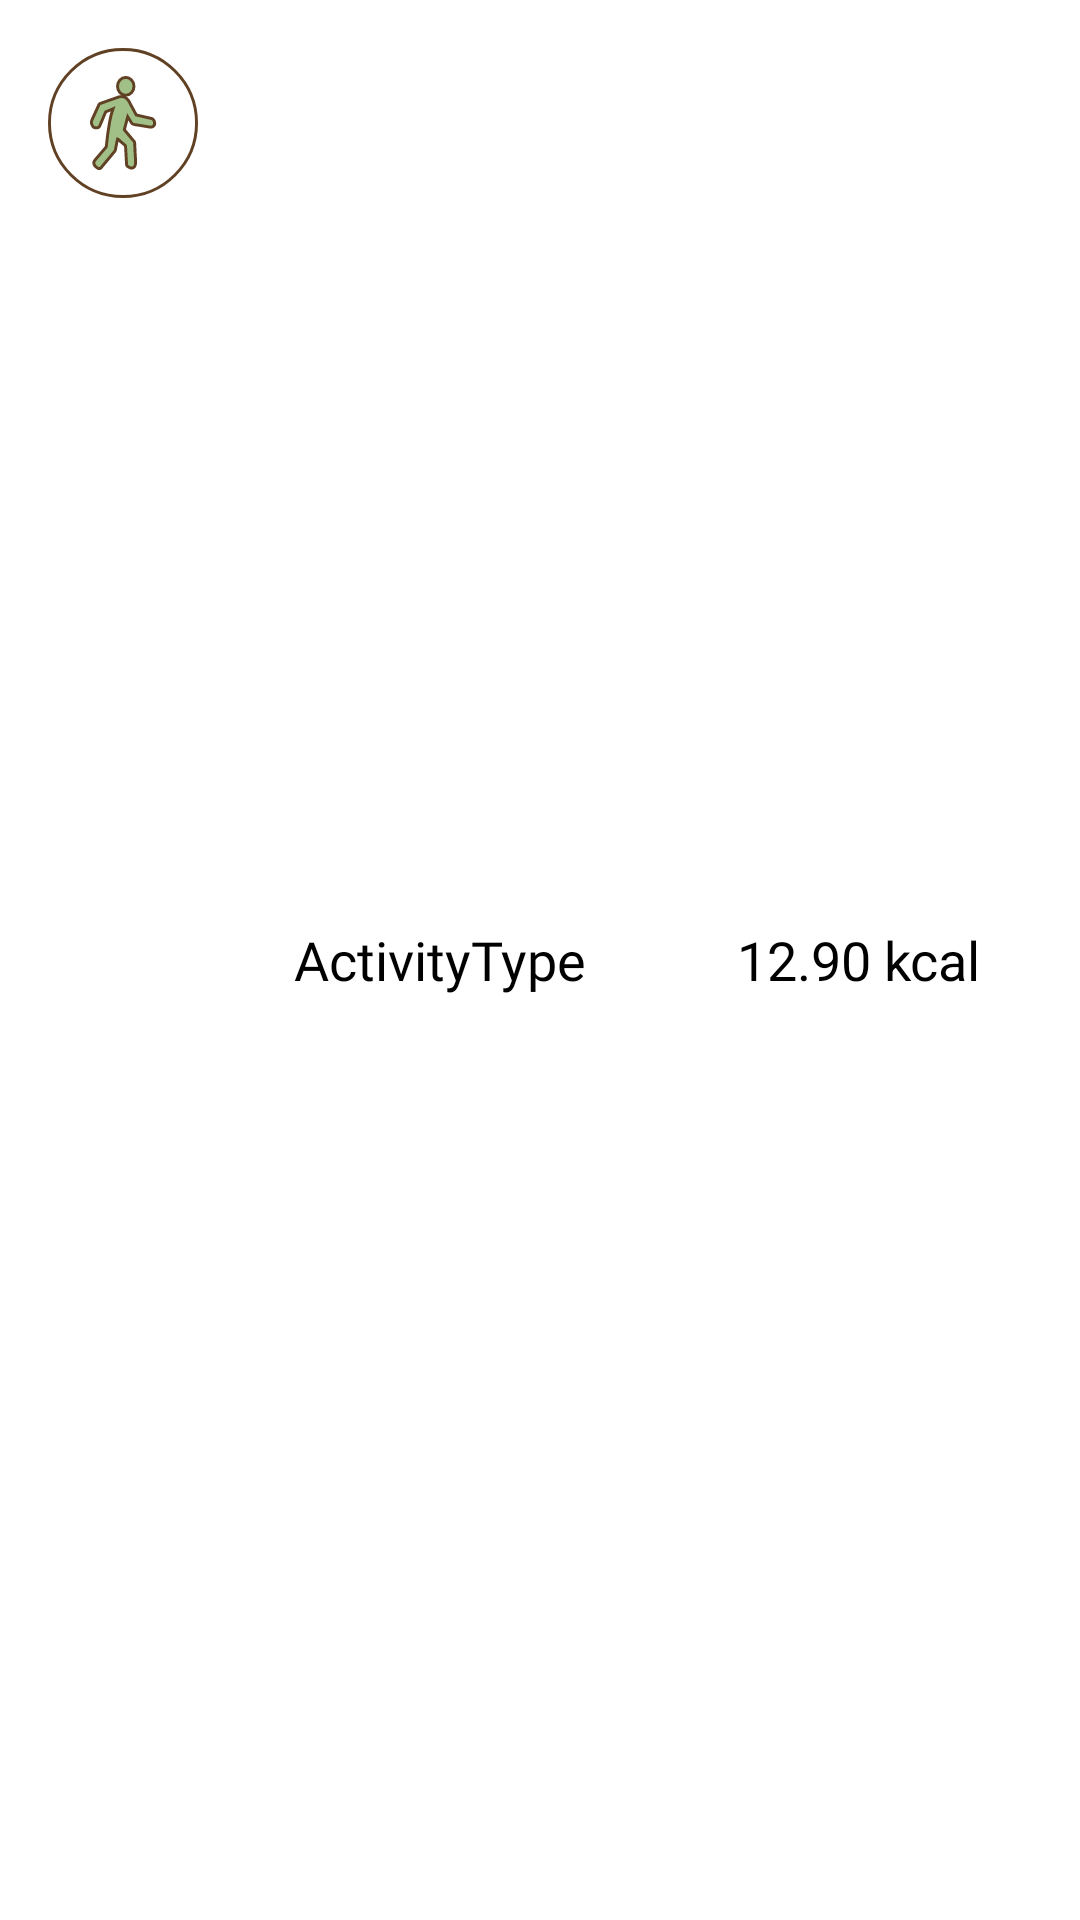

Where to tap for icons on this 1080px x 1920px app screen, as [x,y]:
walking: [123,123]
